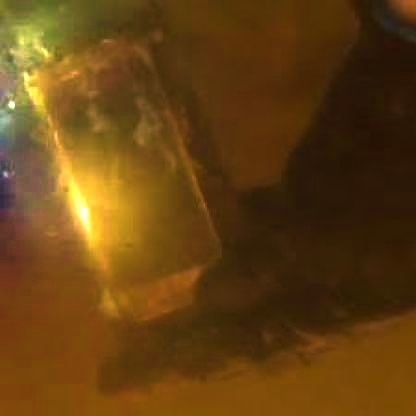cellphone: (37, 42, 231, 320)
